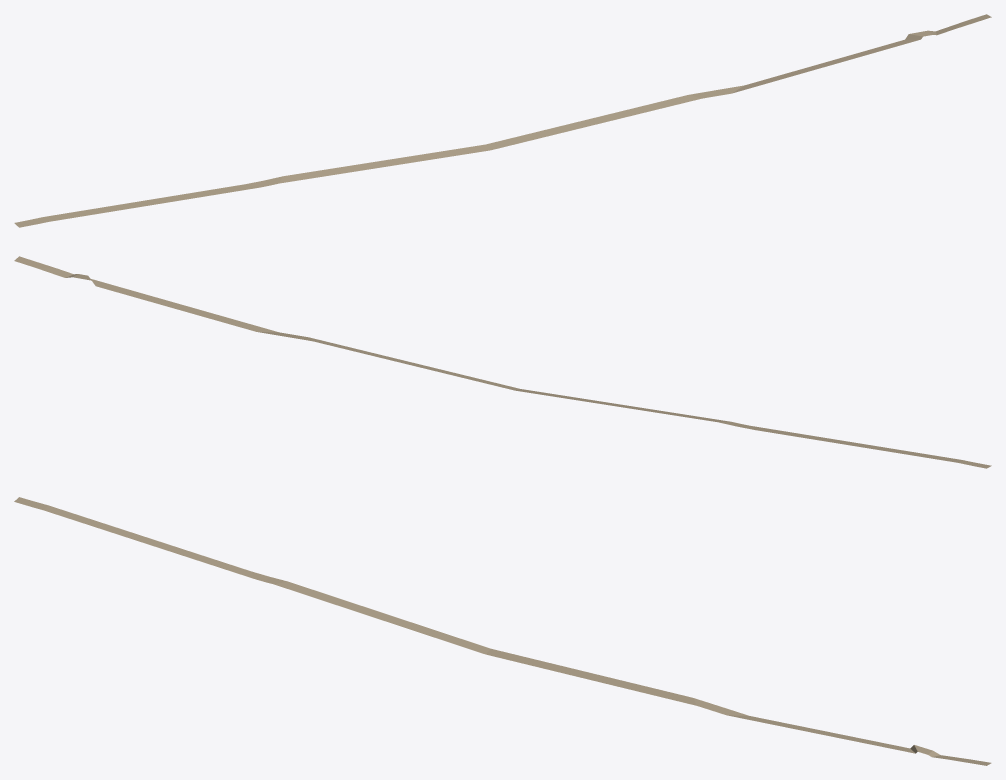
File: farm_6_14_track.glb
The picture shows the model from 3 angles, top to bottom: view 1: azimuth 30°, elevation 25°; view 2: azimuth 150°, elevation 25°; view 3: azimuth 330°, elevation 25°; orthographic projection.
Parts seen in each view (by area): view 1: geometry_0; view 2: geometry_0; view 3: geometry_0.
Boxes of the visible parts, x1,y1,x2,y2 form: geometry_0: (14,14,991,227); geometry_0: (14,256,991,468); geometry_0: (14,497,991,765).
Size of the model in its own units: 352 by 14.19 by 3.62.
